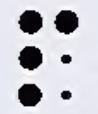para: (18, 10, 79, 111)
